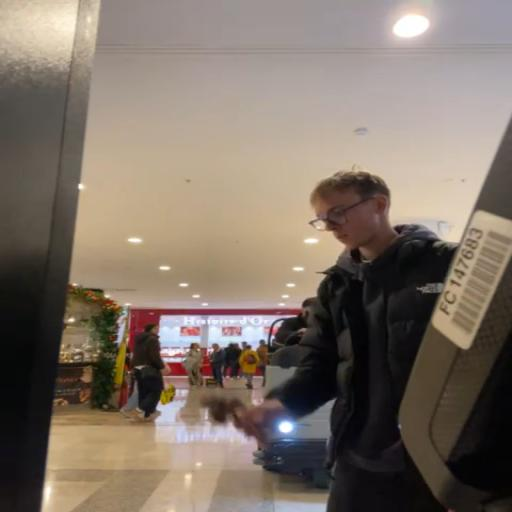kendama_ball: (200, 390, 228, 410)
